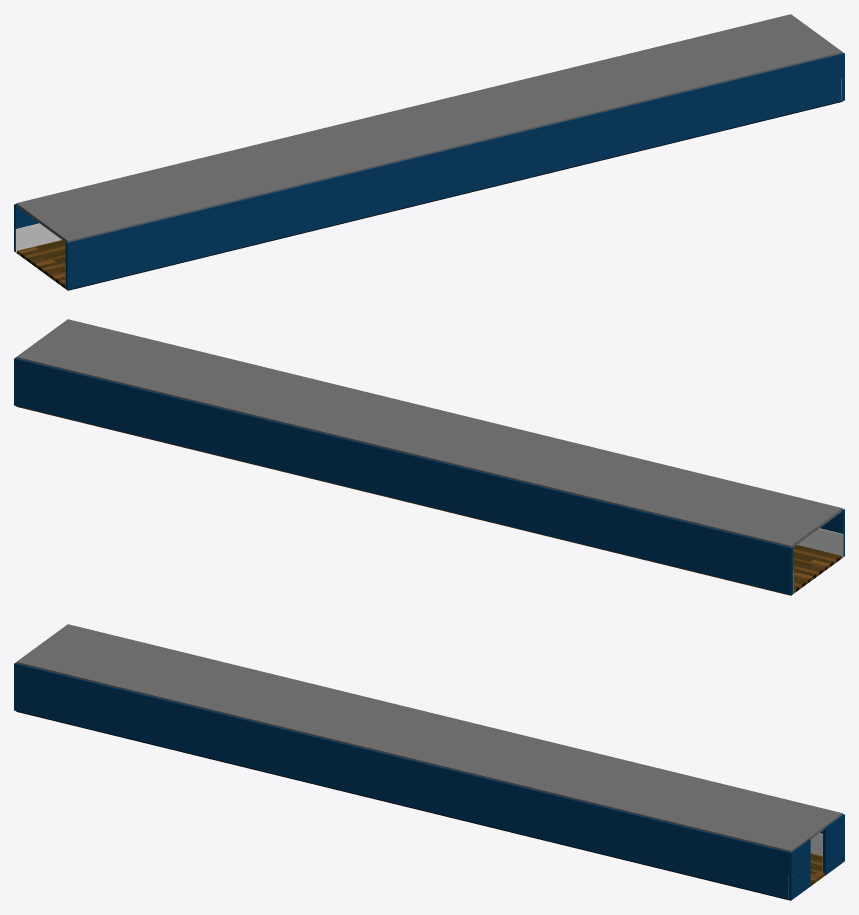
Rendered from escapefbx2.fbx.
The picture shows the model from 3 angles, top to bottom: view 1: azimuth 30°, elevation 25°; view 2: azimuth 150°, elevation 25°; view 3: azimuth 330°, elevation 25°; orthographic projection.
Parts seen in each view (by area): view 1: Ceiling.002, Wall.008, Floor.003; view 2: Ceiling.002, Wall.008, Floor.003; view 3: Ceiling.002, Wall.008, Floor.003.
Part boxes in pixels (x1,y1,x2,y2): Ceiling.002: [16, 14, 842, 242]; Wall.008: [14, 52, 844, 289]; Floor.003: [16, 101, 842, 290]; Ceiling.002: [16, 319, 842, 547]; Wall.008: [14, 357, 844, 594]; Floor.003: [16, 406, 842, 595]; Ceiling.002: [16, 624, 842, 852]; Wall.008: [14, 662, 844, 899]; Floor.003: [16, 711, 837, 900].
Bounding box in the file's own units: 5220 × 320 × 620.
